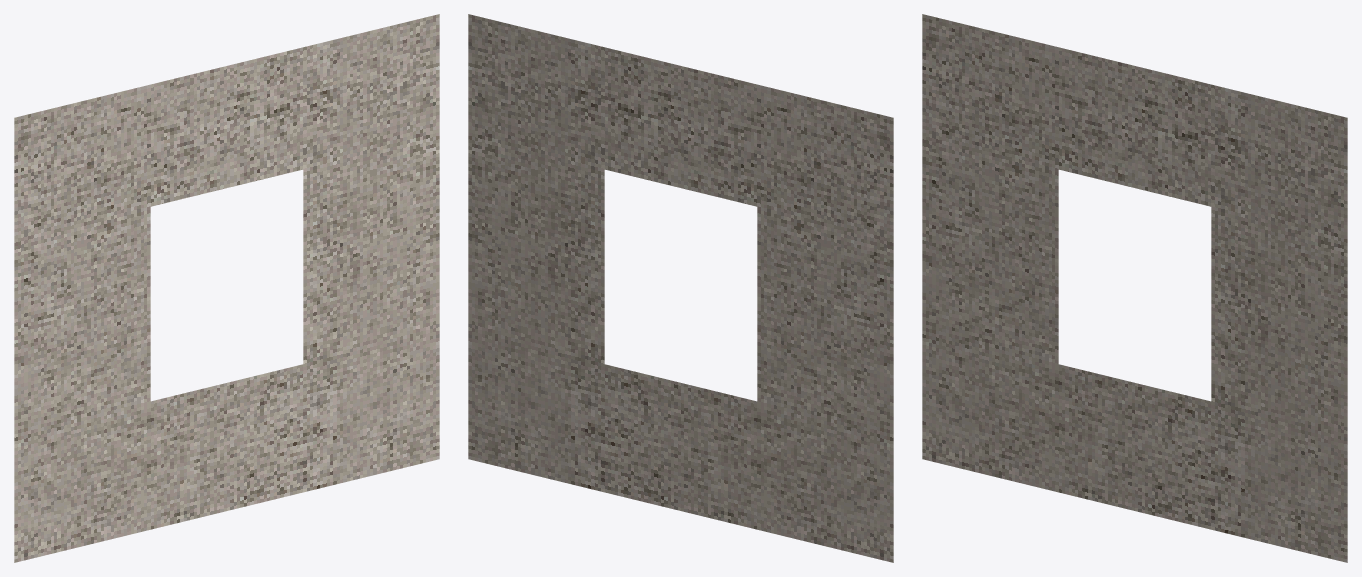
File: wallWindowPlaster2.glb
3 renders of one model, left to right at view 1: azimuth 30°, elevation 25°; view 2: azimuth 150°, elevation 25°; view 3: azimuth 330°, elevation 25°, orthographic.
Visible parts, largest first — view 1: wallWindowPlaster2; view 2: wallWindowPlaster2; view 3: wallWindowPlaster2.
Boxes of the visible parts, x1=… form: wallWindowPlaster2: x1=14, y1=14, x2=439, y2=562; wallWindowPlaster2: x1=468, y1=14, x2=893, y2=562; wallWindowPlaster2: x1=922, y1=14, x2=1347, y2=562.
Size of the model in its own units: 4 by 4 by 1.19e-07.
Materials: 1 (1 with a texture image).
